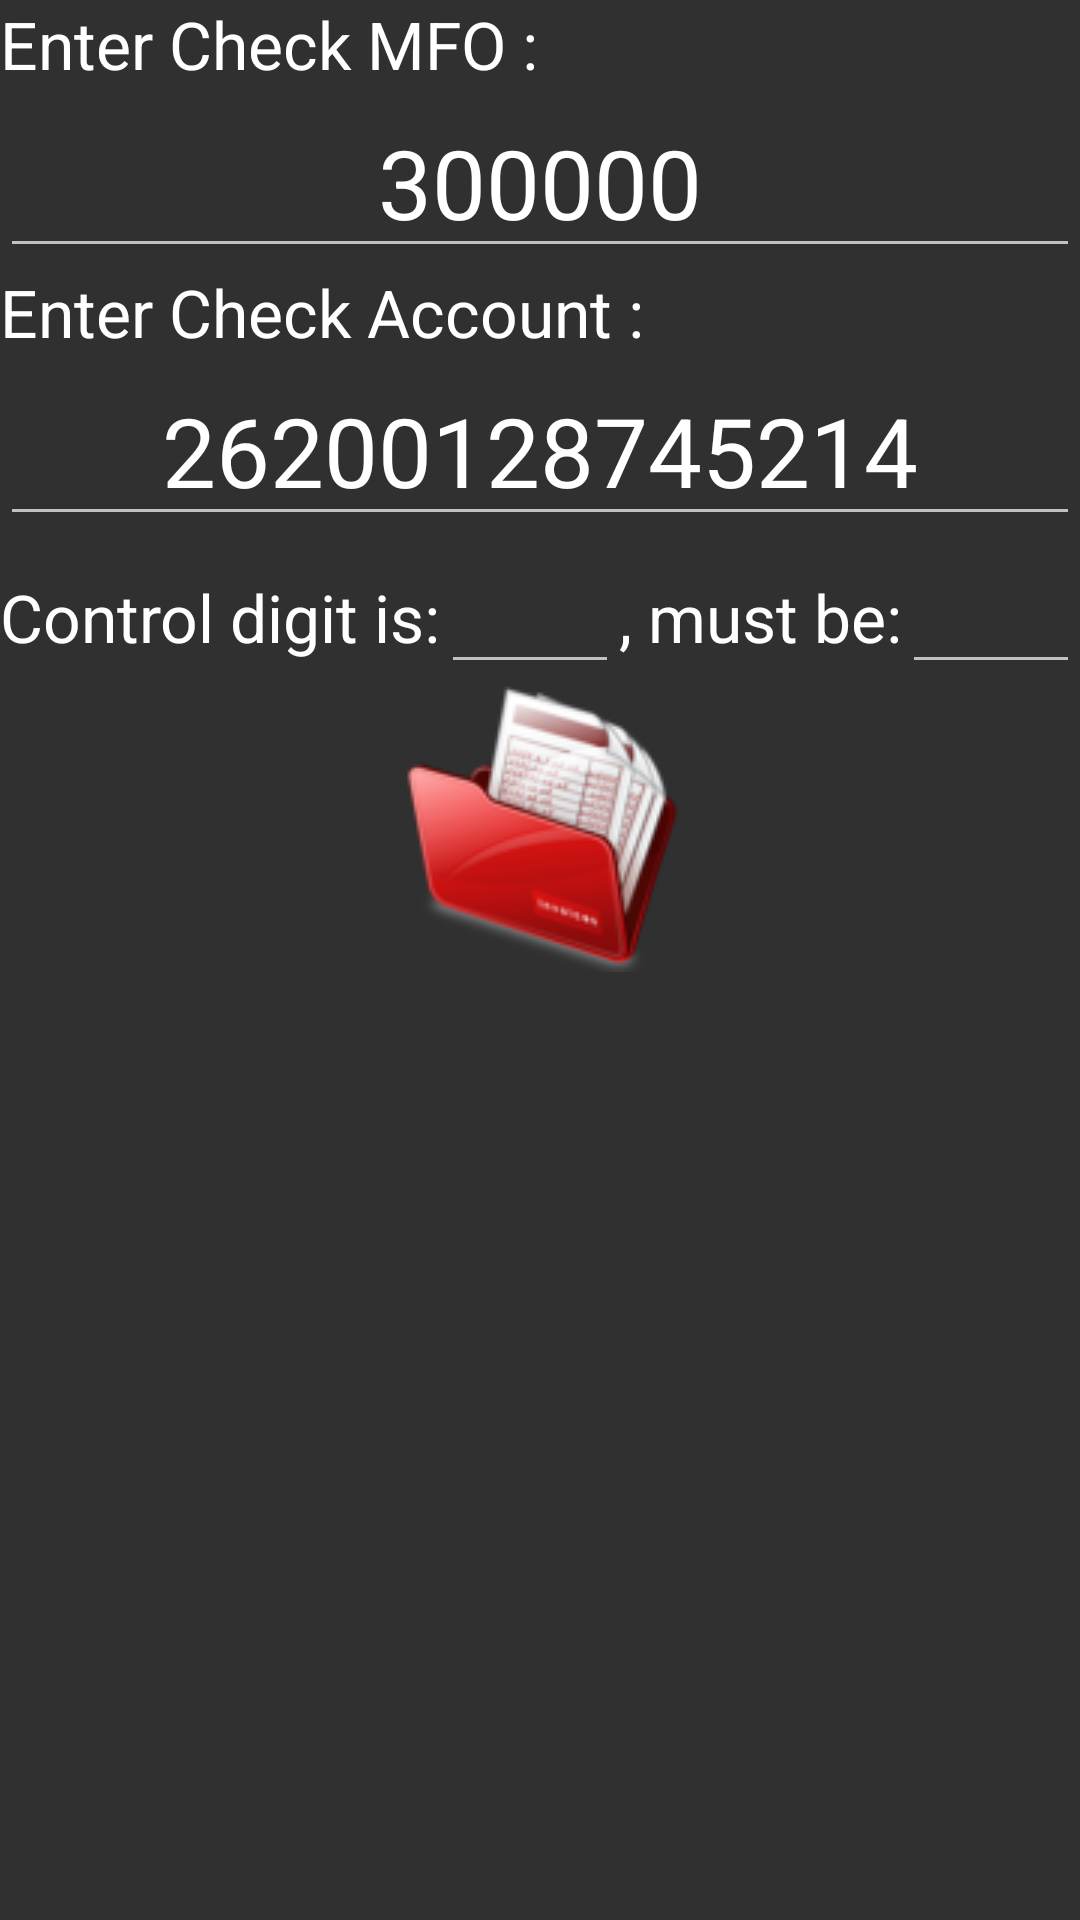

Named icons in this screenshot (1080×1920) and their bounding boxes, {"x1": x1, "y1": y1, "x2": x2, "y2": y2}:
folder invoices: {"x1": 407, "y1": 687, "x2": 675, "y2": 968}
